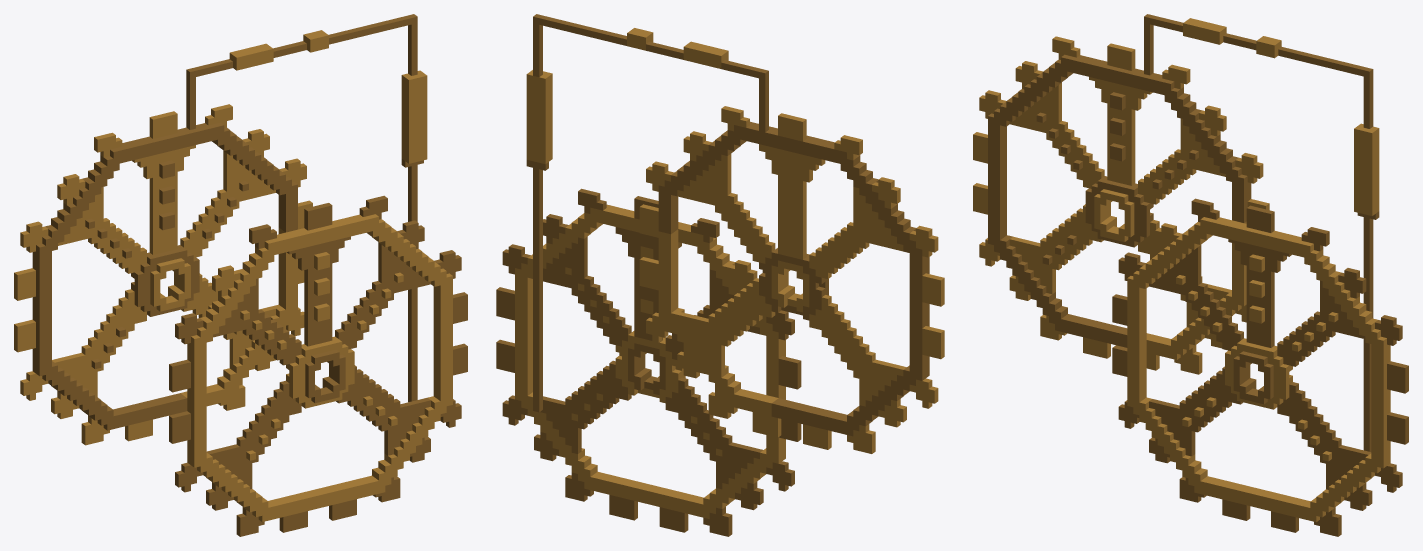
Rendered from GGJ thing 03.obj.
The picture shows the model from 3 angles, left to right: view 1: azimuth 30°, elevation 25°; view 2: azimuth 150°, elevation 25°; view 3: azimuth 330°, elevation 25°; orthographic projection. The views are drawn at different scales.
Bounding box in the file's own units: 7.2 × 7.5 × 0.5.
1 material, 1 textured.
